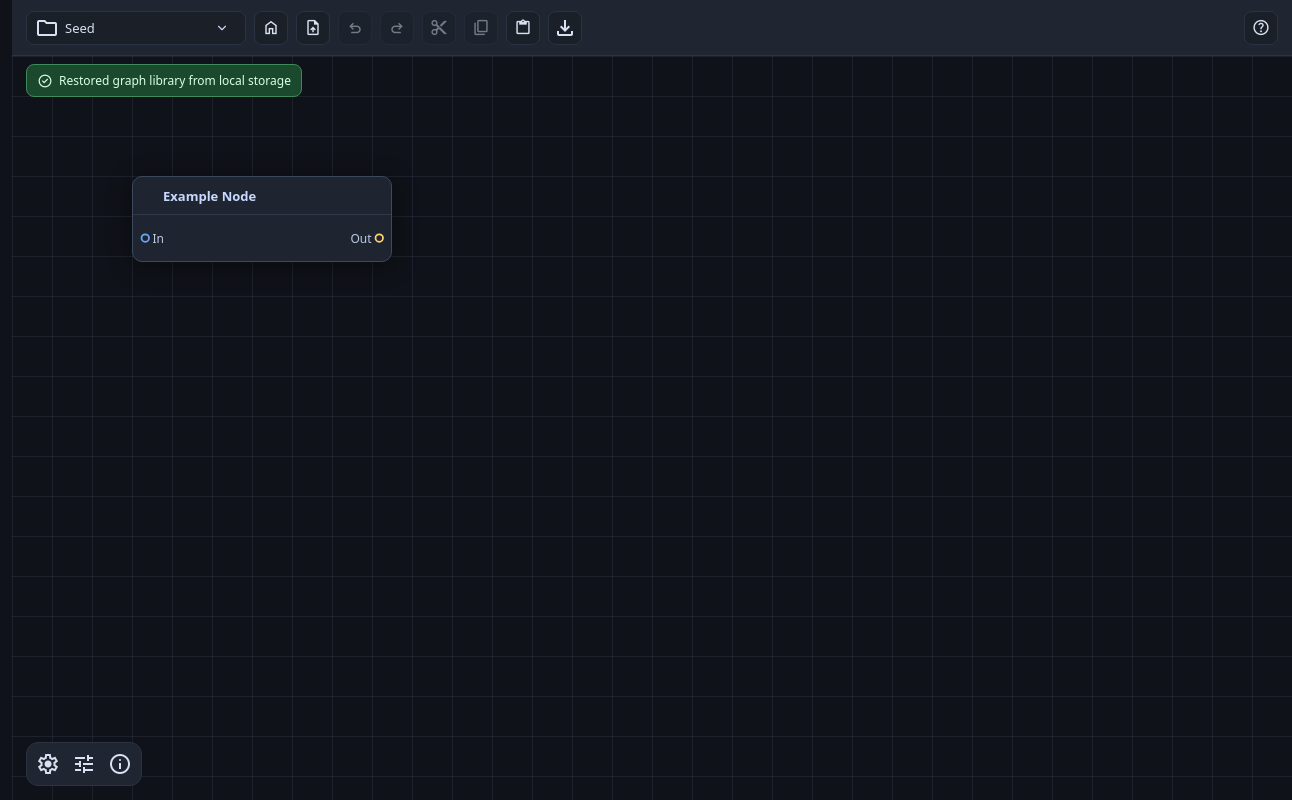
Test: App inspector accessibility › includes brutal theme variants in the global theme preset selector
The width and height of the screenshot is (1292, 800).
Click the button named "Graph Properties".
click(84, 764)  # box x1=69 y1=749 x2=99 y2=779
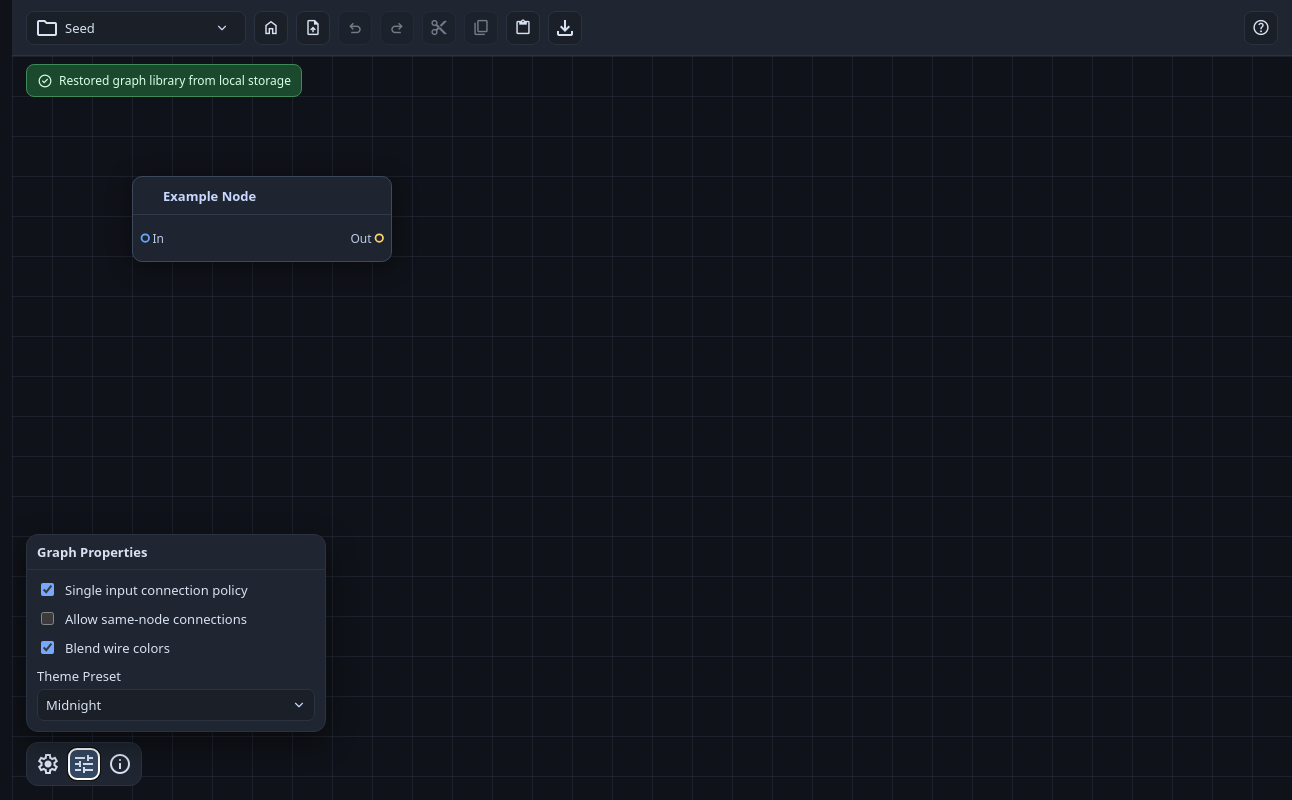
Now the dropdown labelled "Theme Preset" is shown, box x1=37 y1=689 x2=315 y2=721
